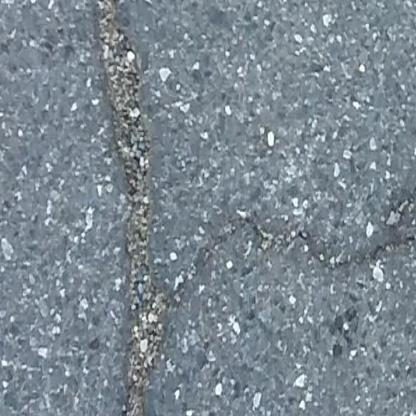Cracks: (81, 0, 416, 416)
